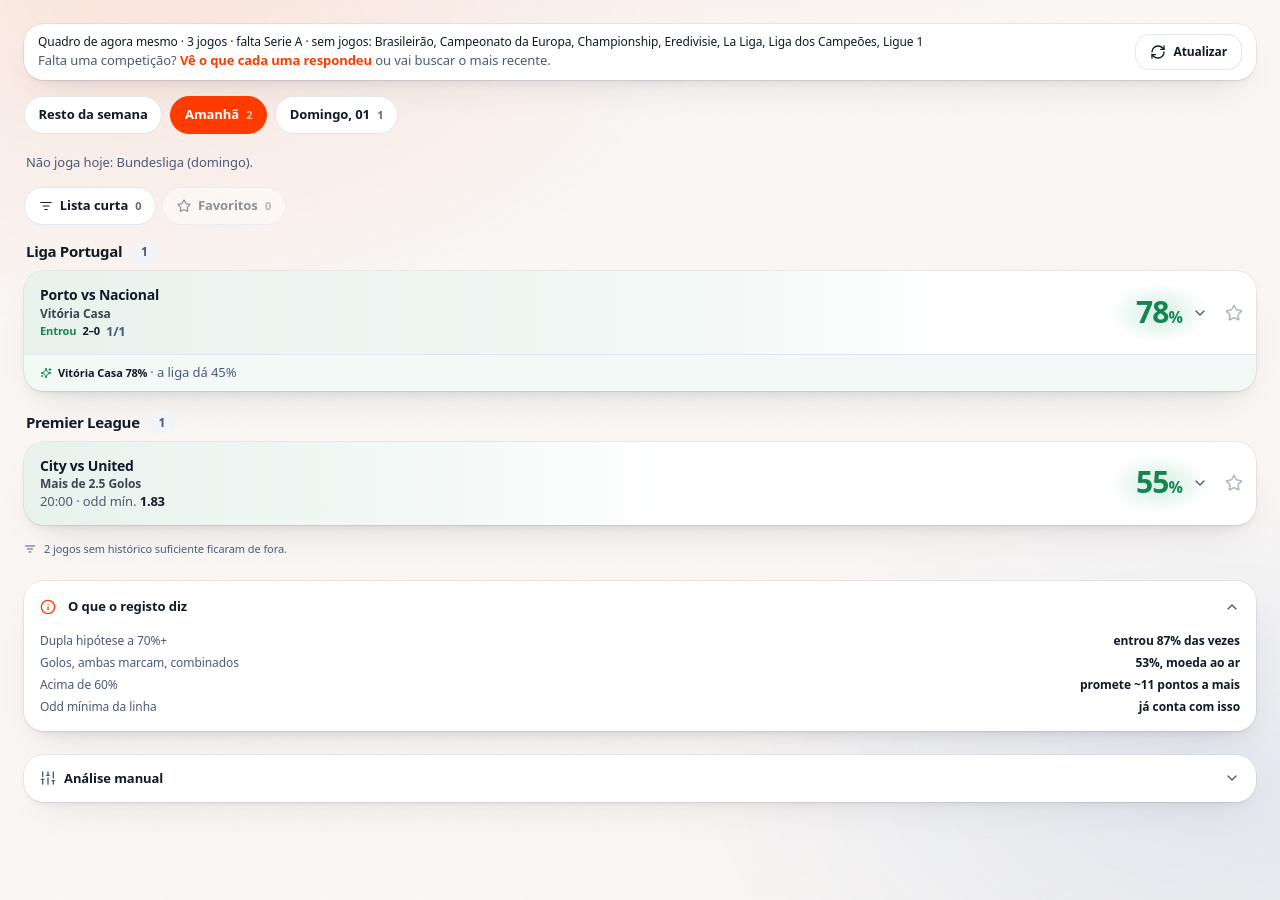
ProbabilityRadar board › não oferece o boletim num jogo que já acabou
The width and height of the screenshot is (1280, 900).
Click the button "Porto vs Nacional": [59, 295] box 24,271 -> 1212,354
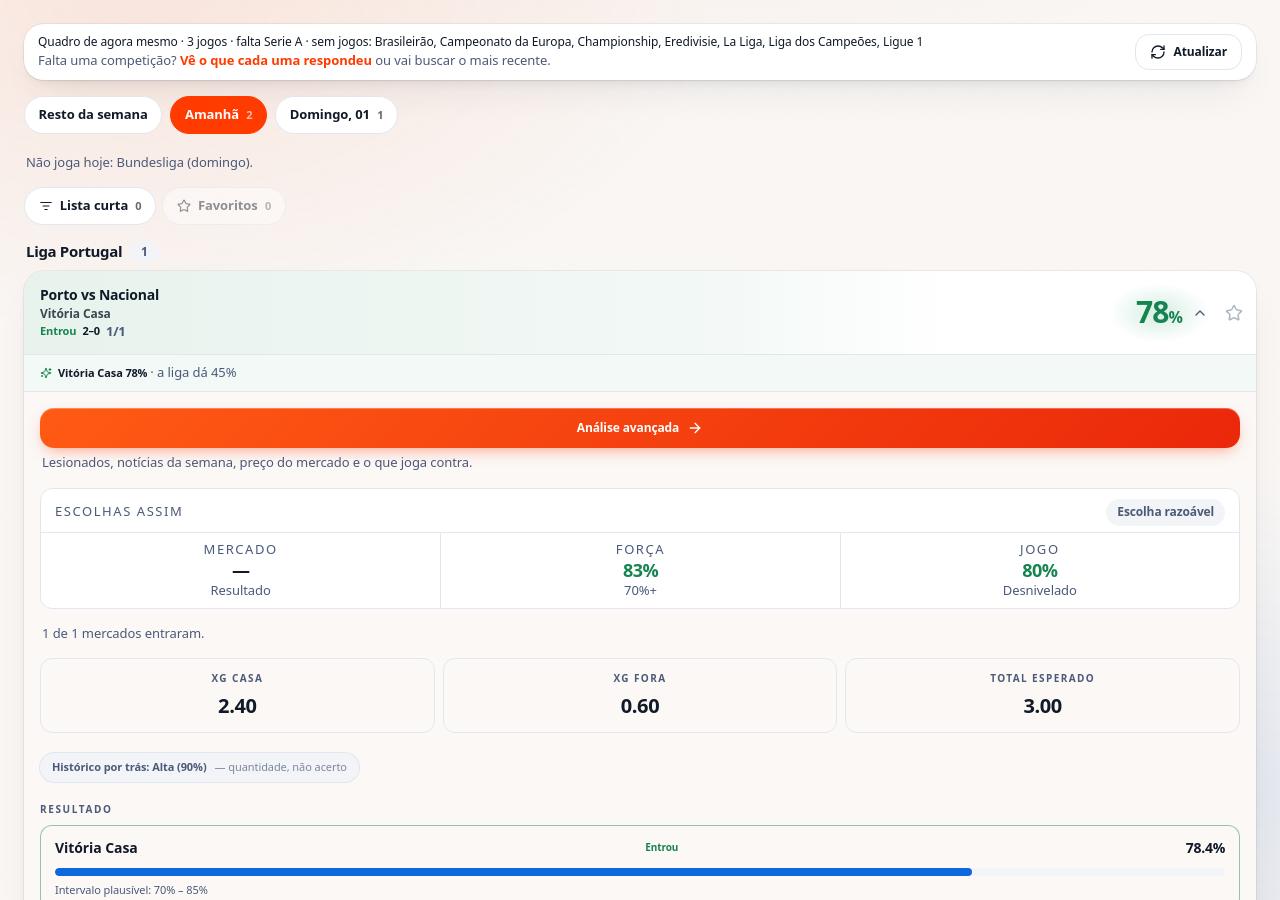
Result: the text "1 de 1 mercados entraram." is shown at 42,624 -> 204,642
